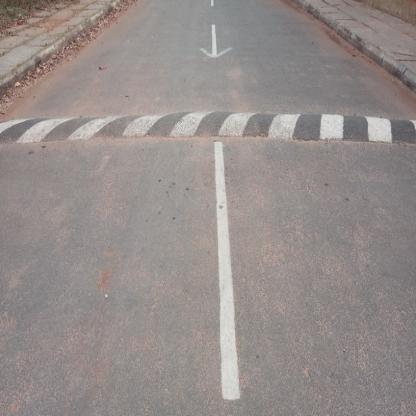speed-bumps: (0, 102, 415, 148)
